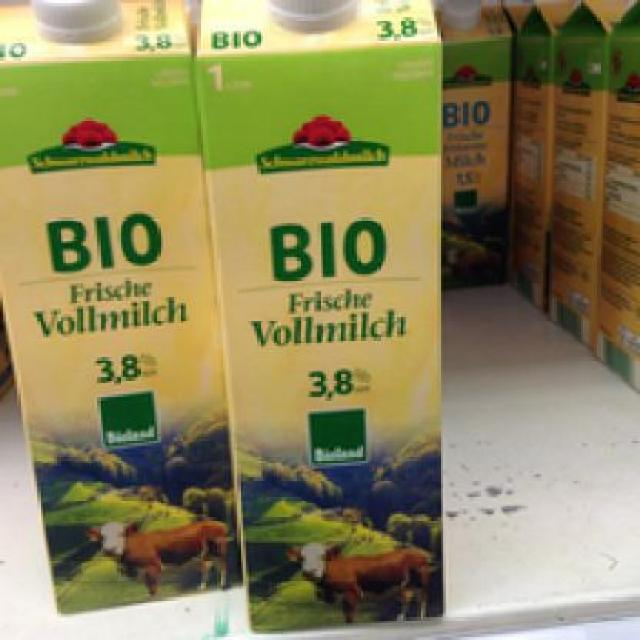Milk: (181, 0, 449, 635), (0, 0, 237, 609)
